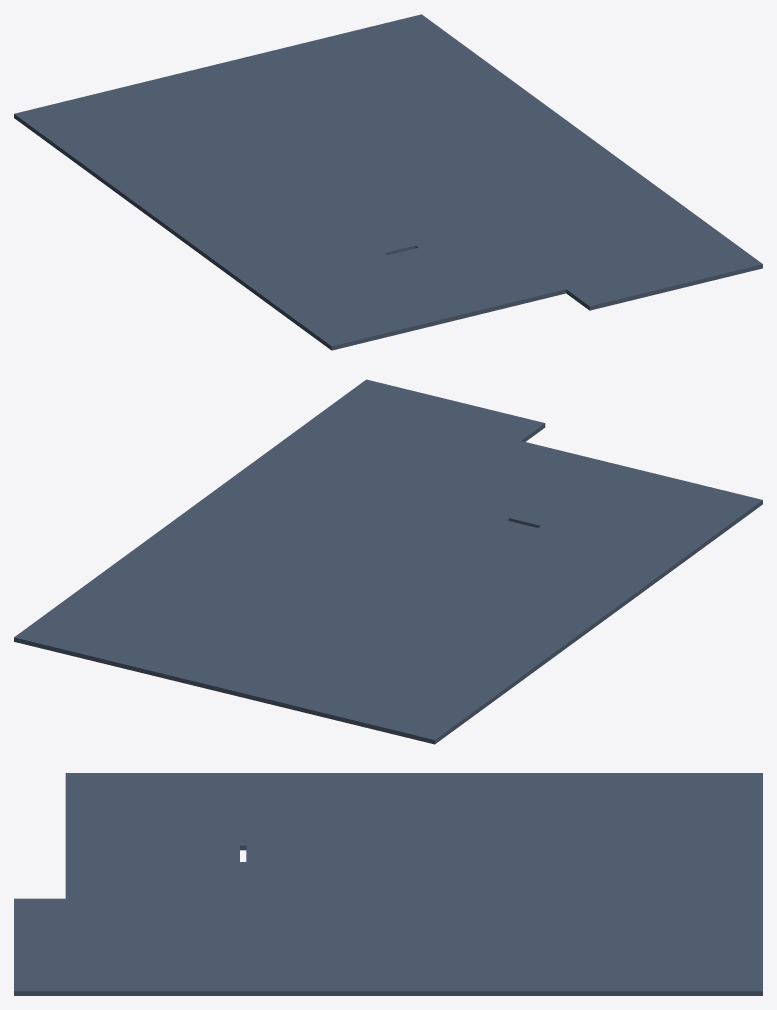
The model's file is floor_geometry.obj.
3 views of the same model, one above another, from view 1: azimuth 30°, elevation 25°; view 2: azimuth 150°, elevation 25°; view 3: azimuth 270°, elevation 25° (orthographic). The views are drawn at different scales.
Visible parts, largest first — view 1: Floor_001_l_archive_a_floor_main, Floor_008_l_archive_a_floor_partition, Floor_002_l_archive_a_floor_passage, Floor_007_l_archive_a_floor_stair, Floor_006_l_archive_a_floor_lobby; view 2: Floor_001_l_archive_a_floor_main, Floor_008_l_archive_a_floor_partition, Floor_002_l_archive_a_floor_passage, Floor_007_l_archive_a_floor_stair, Floor_006_l_archive_a_floor_lobby; view 3: Floor_001_l_archive_a_floor_main, Floor_008_l_archive_a_floor_partition, Floor_002_l_archive_a_floor_passage, Floor_007_l_archive_a_floor_stair, Floor_006_l_archive_a_floor_lobby.
Part boxes in pixels (left/top/right/bottom): Floor_001_l_archive_a_floor_main: left=14, top=14, right=591, bottom=242; Floor_008_l_archive_a_floor_partition: left=419, top=139, right=762, bottom=310; Floor_002_l_archive_a_floor_passage: left=184, top=212, right=442, bottom=350; Floor_007_l_archive_a_floor_stair: left=362, top=229, right=566, bottom=323; Floor_006_l_archive_a_floor_lobby: left=297, top=181, right=483, bottom=258; Floor_001_l_archive_a_floor_main: left=14, top=508, right=610, bottom=744; Floor_008_l_archive_a_floor_partition: left=190, top=379, right=545, bottom=551; Floor_002_l_archive_a_floor_passage: left=498, top=472, right=762, bottom=615; Floor_007_l_archive_a_floor_stair: left=436, top=441, right=646, bottom=533; Floor_006_l_archive_a_floor_lobby: left=369, top=503, right=561, bottom=582; Floor_001_l_archive_a_floor_main: left=388, top=773, right=762, bottom=995; Floor_008_l_archive_a_floor_partition: left=14, top=898, right=388, bottom=995; Floor_002_l_archive_a_floor_passage: left=65, top=773, right=388, bottom=832; Floor_007_l_archive_a_floor_stair: left=65, top=833, right=246, bottom=898; Floor_006_l_archive_a_floor_lobby: left=246, top=833, right=388, bottom=898.
Bounding box in the file's own units: 20 × 0.2 × 29.
